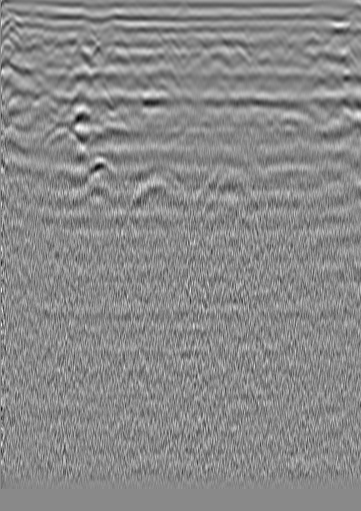가스: (79, 153, 117, 192)
상수: (300, 29, 320, 49)
오수: (25, 32, 45, 52)
우수: (185, 30, 205, 50)
